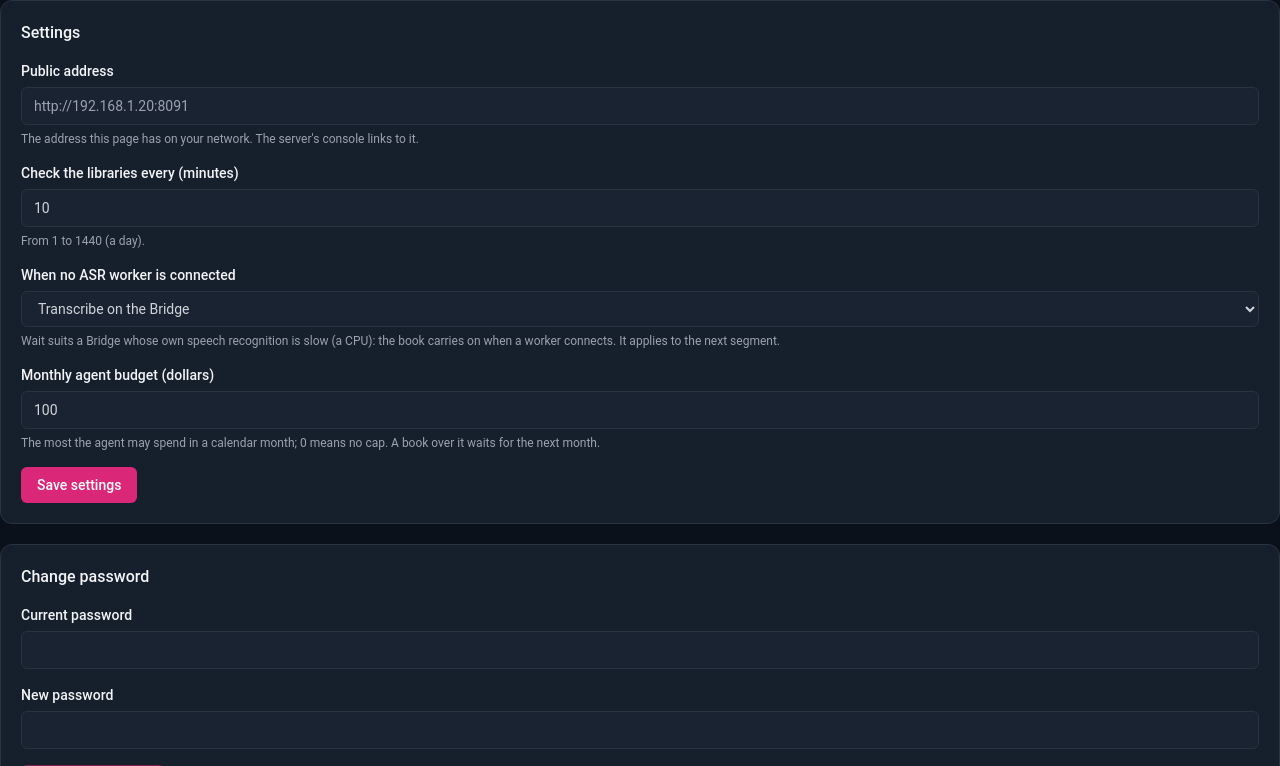
Test: SettingsTab › shows a 409 from the Bridge verbatim
Type "http://bridge.lan" into the field labelled "Public address" at (640, 106), box [21,87,1259,125]
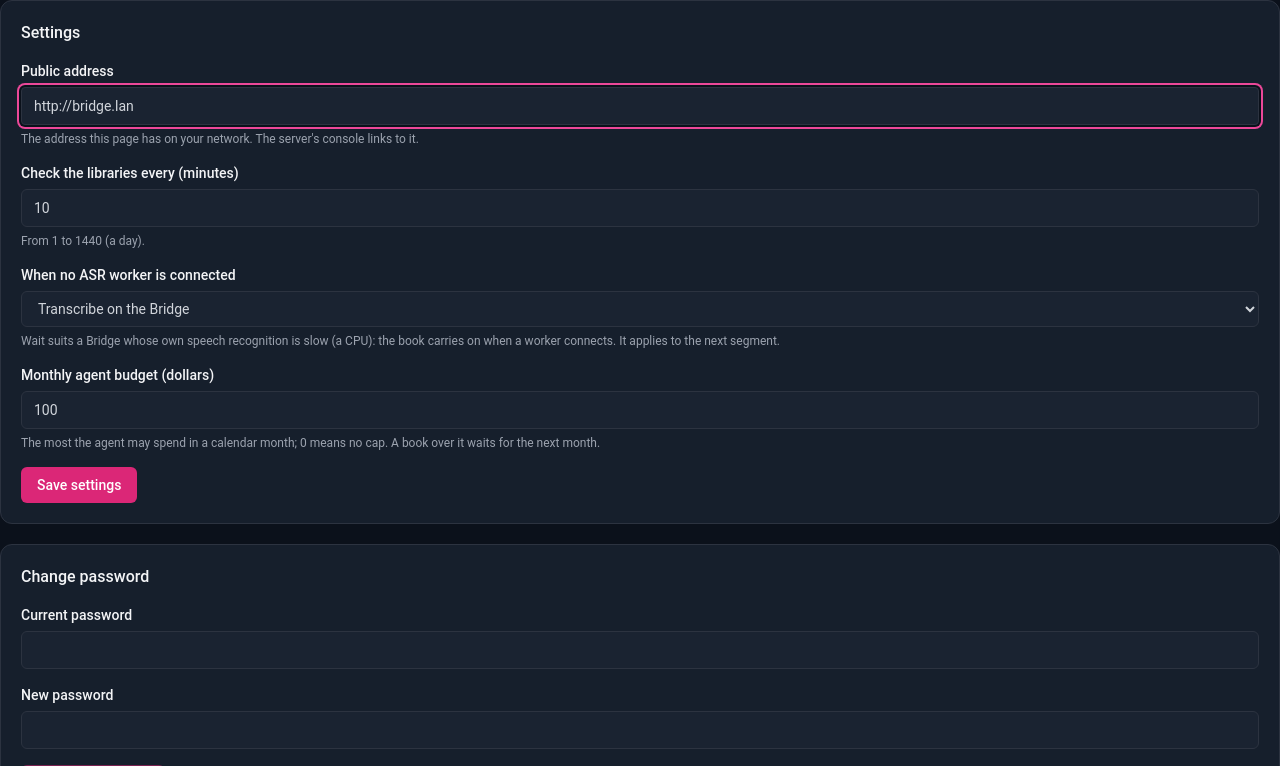
Click the button "Save settings" at (79, 485), box [21,467,137,503]
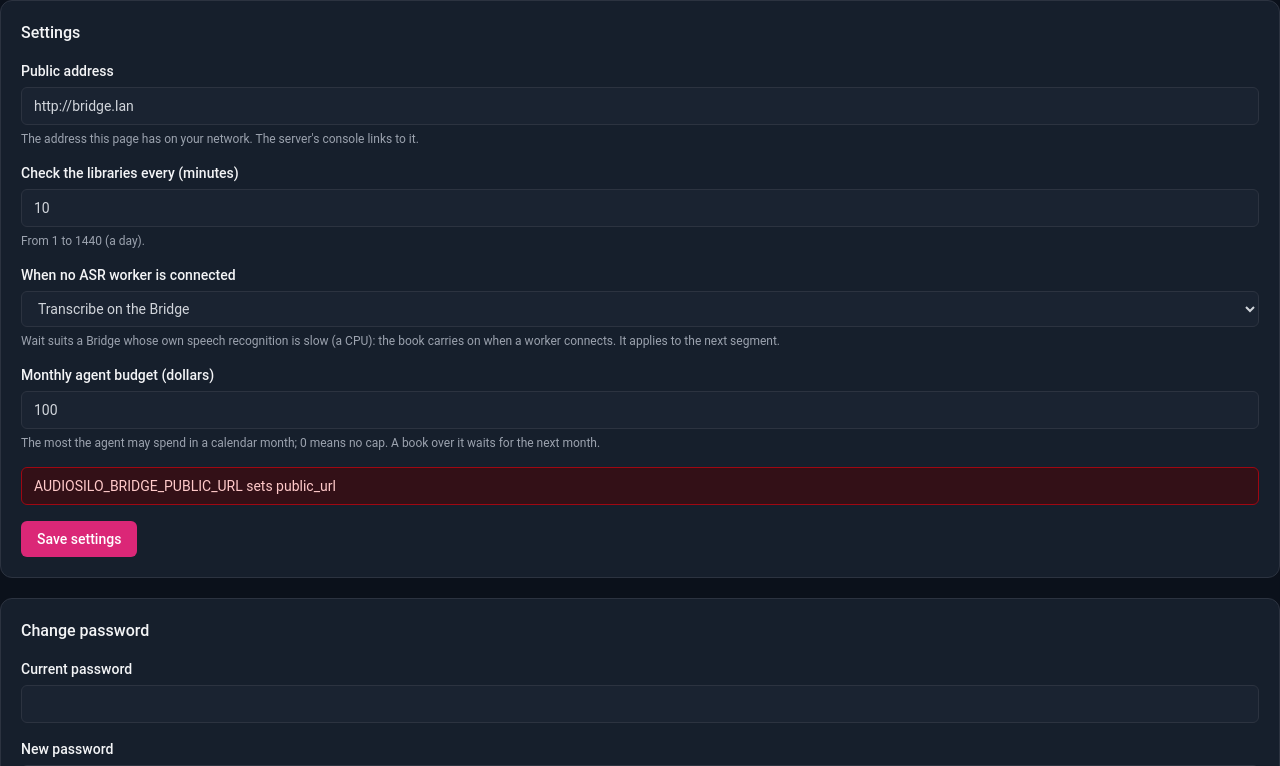
expect the message reads "AUDIOSILO_BRIDGE_PUBLIC_URL sets public_url": met, box [34,478,336,494]
